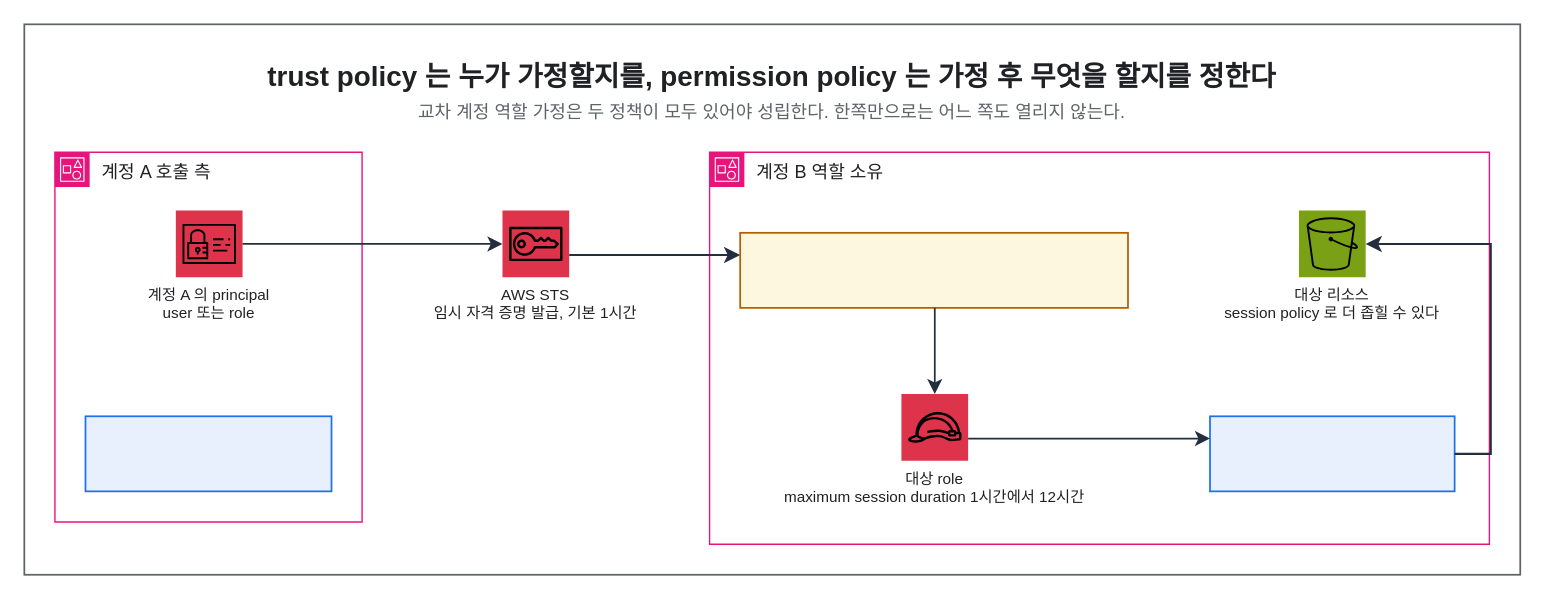
This 1546x600 diagram has some shape labels left out. The centre of each missing label's shape, as x and y in pixels:
permission policy 가정 후 할 수 있는 일: (x=1331, y=453)
sts:AssumeRole 권한 identity policy 에 있어야 한다: (x=208, y=453)
trust policy 계정 A 를 principal 로 명시한 explicit Allow 필수: (x=933, y=269)
